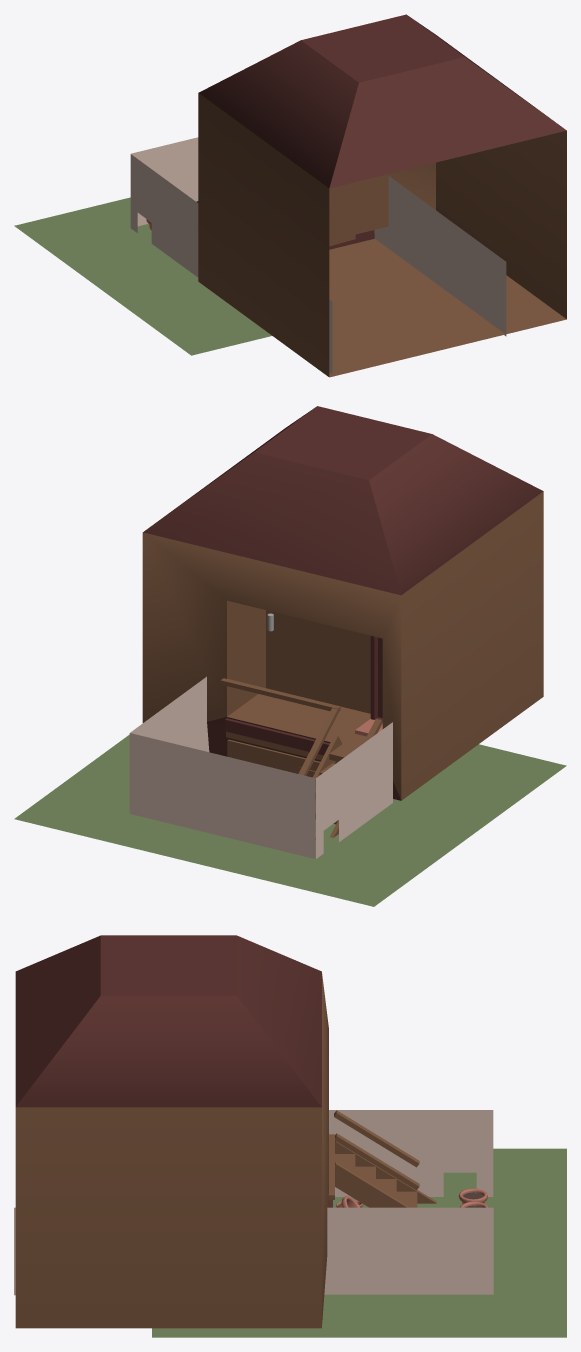
Rendered from stage_unity_april2.fbx.
3 renders of one model, top to bottom at view 1: azimuth 30°, elevation 25°; view 2: azimuth 150°, elevation 25°; view 3: azimuth 270°, elevation 25°, orthographic. The views are drawn at different scales.
Visible parts, largest first — view 1: pCube8, ground1, pPlane6, pPlane2, pPlane5, ground_halfFootPerSquare2; view 2: pCube8, ground1, ground_halfFootPerSquare2, pPlane2, pPlane1, pCube14, pCube13, pCube22, pCube16, pCube17, pCube21; view 3: pCube8, ground1, pPlane1, pPlane2, pCube20, pCube24, pCube25, pCube21.
Part boxes in pixels (x1,y1,x2,y2): pCube8: (198,14,566,377); ground1: (14,197,271,355); pPlane6: (435,210,506,336); pPlane2: (130,154,198,277); pPlane5: (374,176,435,282); ground_halfFootPerSquare2: (131,137,198,226); pCube8: (142,406,543,800); ground1: (14,734,566,906); ground_halfFootPerSquare2: (129,733,315,858); pPlane2: (316,722,392,858); pPlane1: (130,676,206,751); pCube14: (225,718,329,755); pCube13: (370,636,382,721); pCube22: (220,678,340,711); pCube16: (227,739,320,771); pCube17: (227,747,315,777); pCube21: (298,708,338,775); pCube8: (15,935,328,1328); ground1: (152,1148,566,1337); pPlane1: (327,1207,493,1294); pPlane2: (329,1110,493,1196); pCube20: (335,1162,409,1207); pCube24: (335,1141,436,1203); pCube25: (334,1110,419,1167); pCube21: (335,1133,419,1190).
Size of the model in its own units: 16.2 by 12.73 by 20.03.
